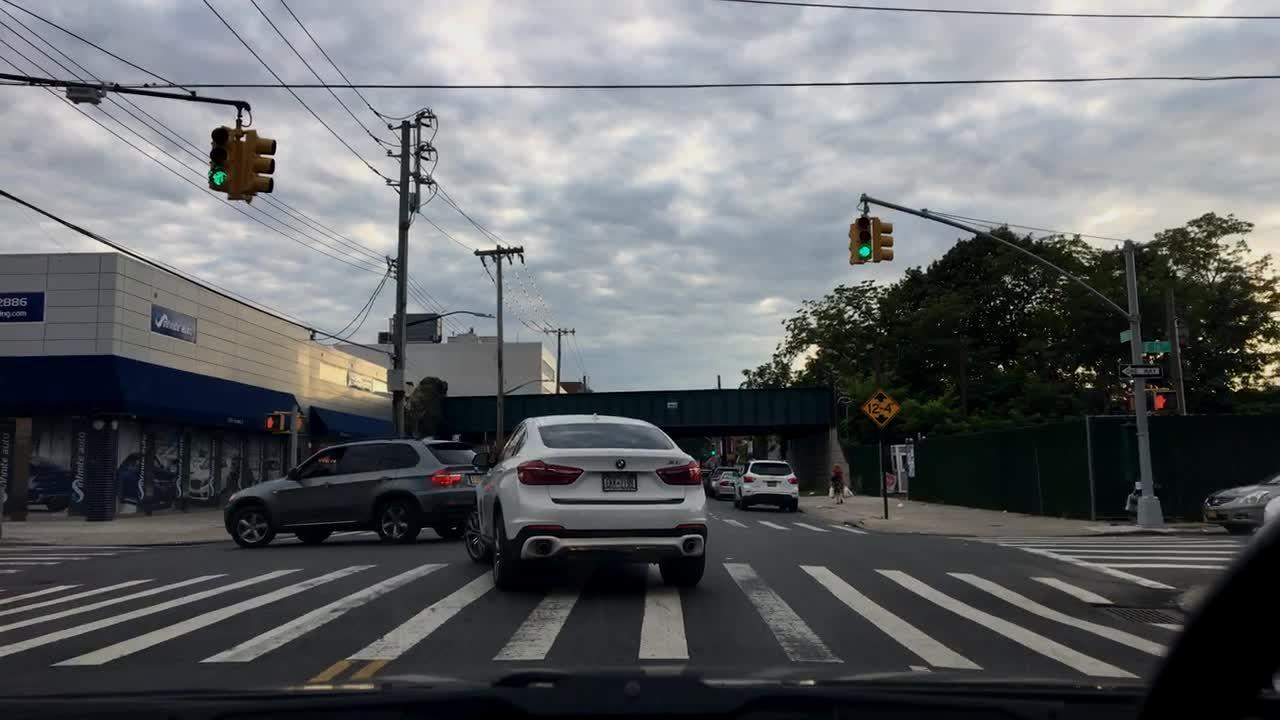bmw: (605, 453, 635, 471)
